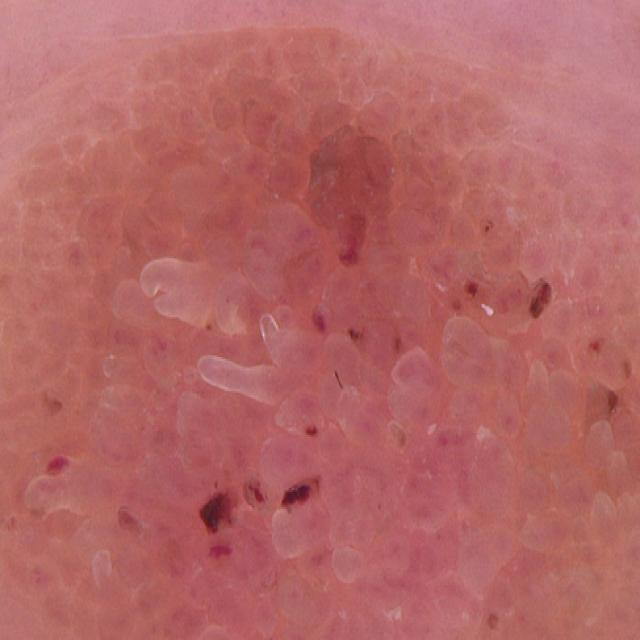Keratosis: (122, 171, 635, 640)
